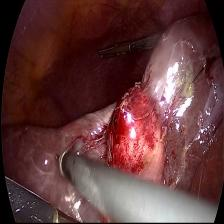Grasper: (97, 37, 132, 64)
Hook: (52, 141, 70, 179)
